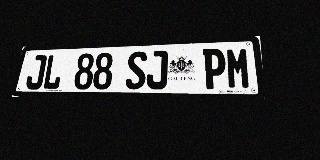8: (73, 53, 96, 89), (92, 52, 114, 89)
J: (146, 50, 168, 89), (25, 55, 47, 89)
L: (42, 54, 64, 89)
M: (226, 47, 252, 89)
P: (203, 48, 226, 89)
S: (125, 51, 147, 89)
